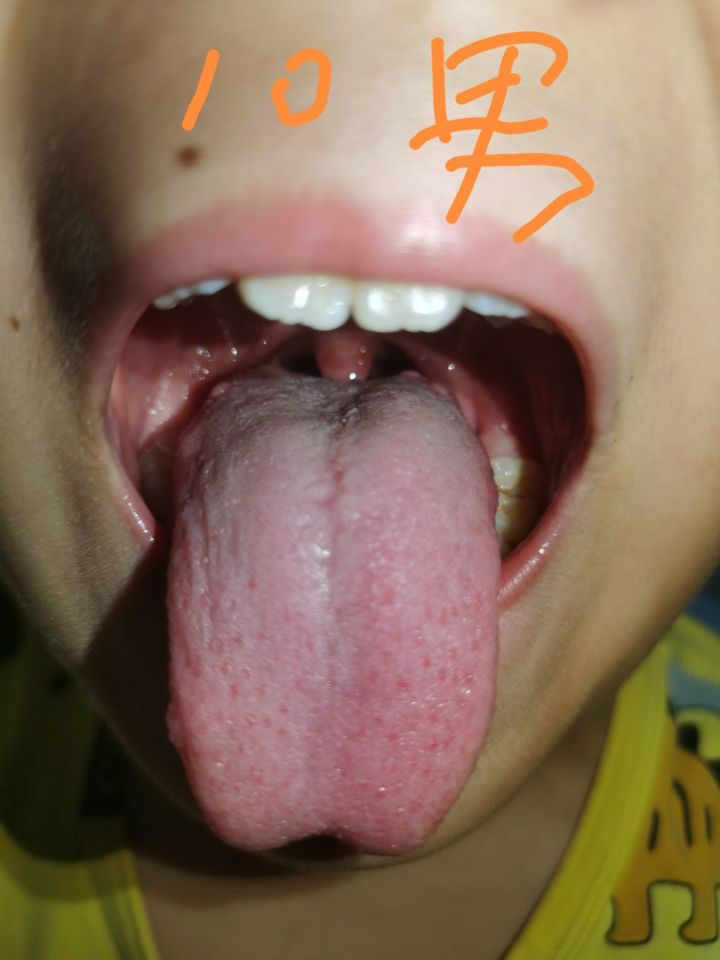baitaishe: (167, 371, 499, 855)
hongdianshe: (242, 573, 259, 595), (373, 783, 387, 801), (397, 673, 410, 692)
shenquao: (253, 371, 425, 428)
